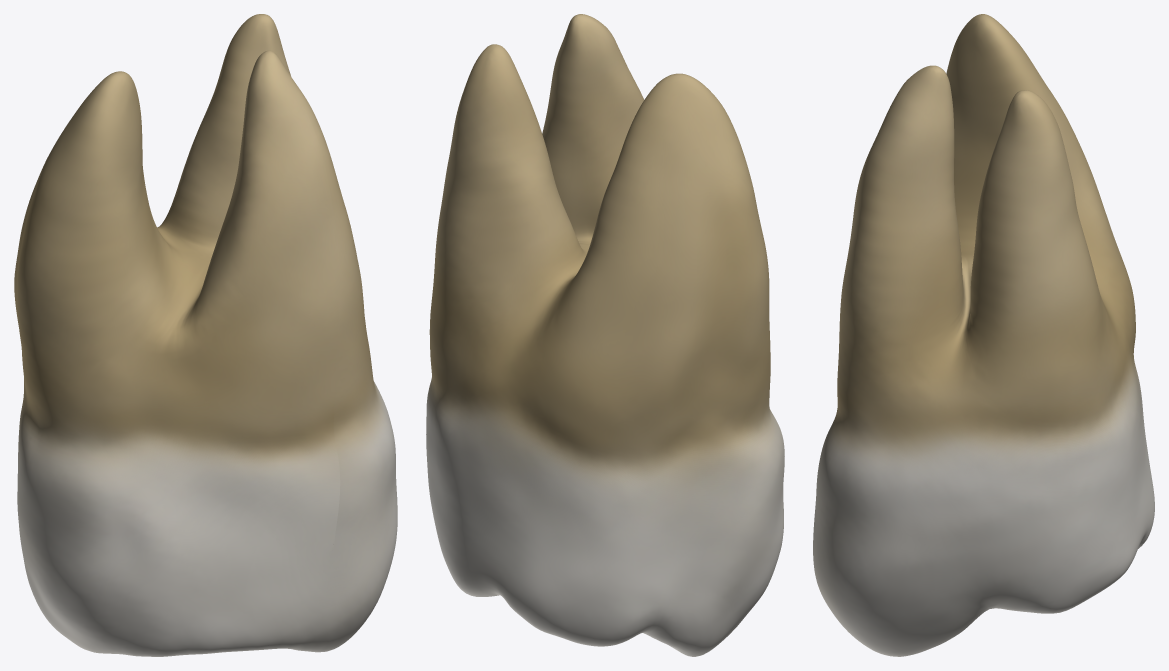
The model's file is maxillary_second_molar.glb.
3 views of the same model, side by side, from view 1: azimuth 30°, elevation 25°; view 2: azimuth 150°, elevation 25°; view 3: azimuth 270°, elevation 25° (orthographic). The views are drawn at different scales.
Visible parts, largest first — view 1: Object_2; view 2: Object_2; view 3: Object_2.
Boxes of the visible parts, bbox=[...] form: Object_2: bbox=[14, 14, 397, 656]; Object_2: bbox=[426, 14, 784, 656]; Object_2: bbox=[813, 14, 1154, 656].
Size of the model in its own units: 0.9303 by 1.58 by 0.8568.
Materials: 1 (1 with a texture image).
